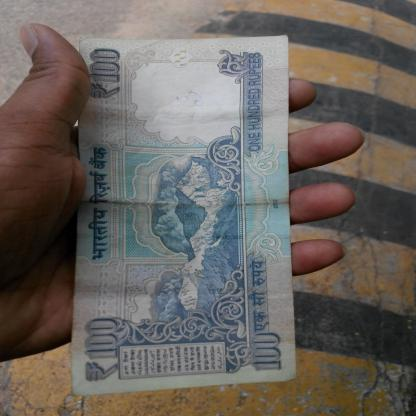Old100Back: (71, 35, 296, 395)
